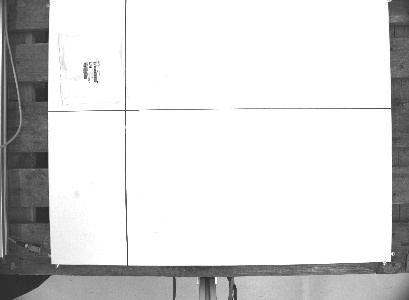t3: (54, 29, 127, 107)
